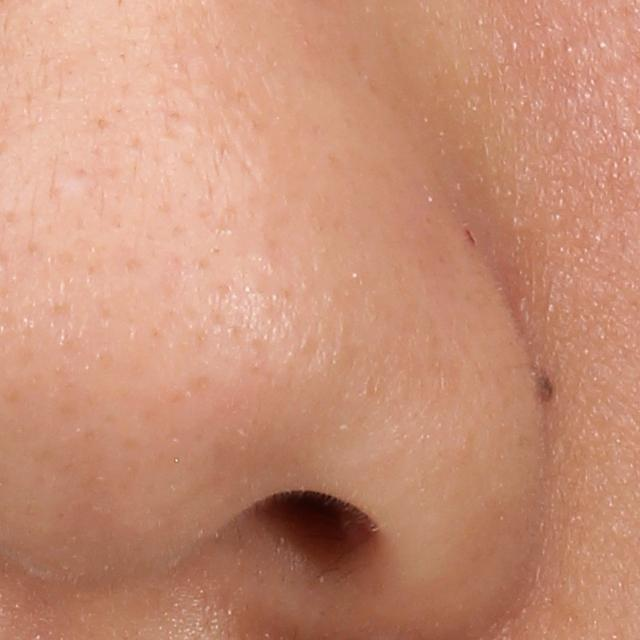nevus: (538, 368, 553, 400)
